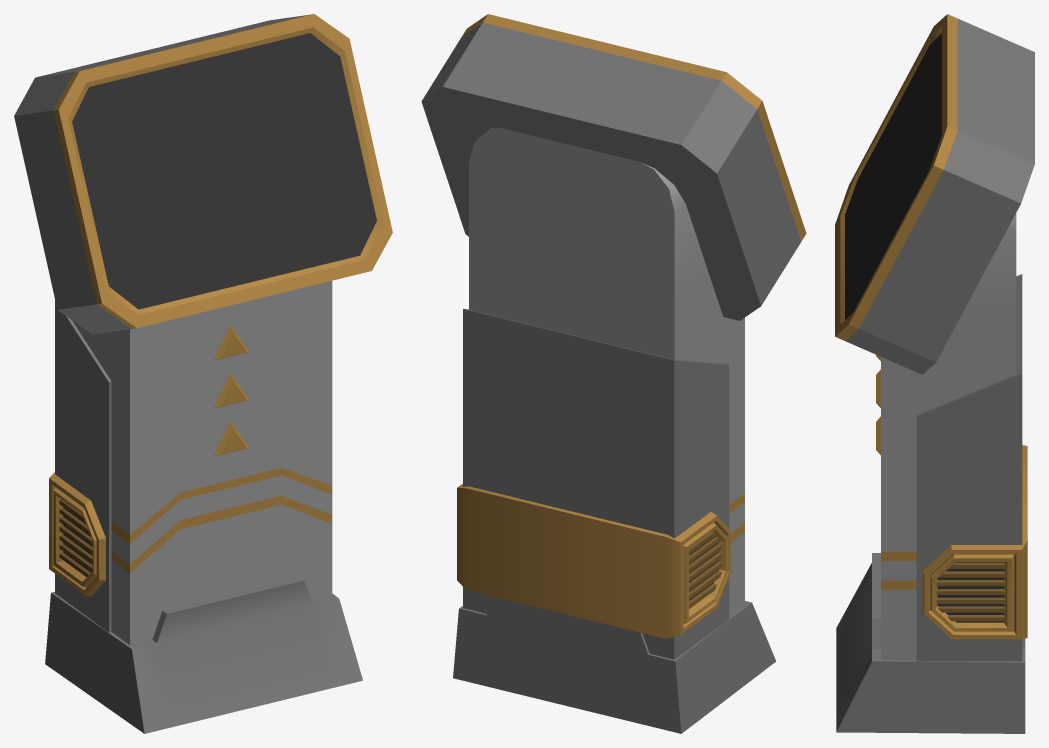
Rendered from Props_ComputerSmall.glb.
3 views of the same model, side by side, from view 1: azimuth 30°, elevation 25°; view 2: azimuth 150°, elevation 25°; view 3: azimuth 270°, elevation 25° (orthographic). The views are drawn at different scales.
Parts seen in each view (by area): view 1: Props_ComputerSmall; view 2: Props_ComputerSmall; view 3: Props_ComputerSmall.
Boxes of the visible parts, x1,y1,x2,y2 form: Props_ComputerSmall: (14,14,392,733); Props_ComputerSmall: (421,14,806,733); Props_ComputerSmall: (835,14,1034,733).
Size of the model in its own units: 0.7512 by 1.54 by 0.4564.
